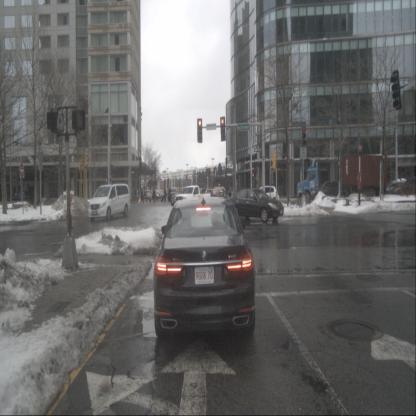human-pedestrian-adult: (134, 188, 138, 203), (140, 189, 144, 203), (131, 188, 134, 204), (168, 186, 171, 202), (153, 188, 156, 203), (144, 190, 147, 203), (164, 187, 166, 202)
vehicle-car: (154, 197, 256, 341), (225, 188, 284, 223), (88, 184, 130, 222), (311, 181, 340, 202), (392, 178, 416, 198), (254, 186, 278, 204), (385, 181, 407, 197), (170, 187, 179, 200), (216, 188, 225, 200), (197, 188, 206, 197), (144, 190, 152, 200), (204, 189, 212, 199), (152, 190, 158, 200)
vehicle-truck: (297, 156, 319, 204), (175, 186, 211, 212), (171, 186, 203, 210), (10, 190, 32, 206), (212, 176, 225, 198)
